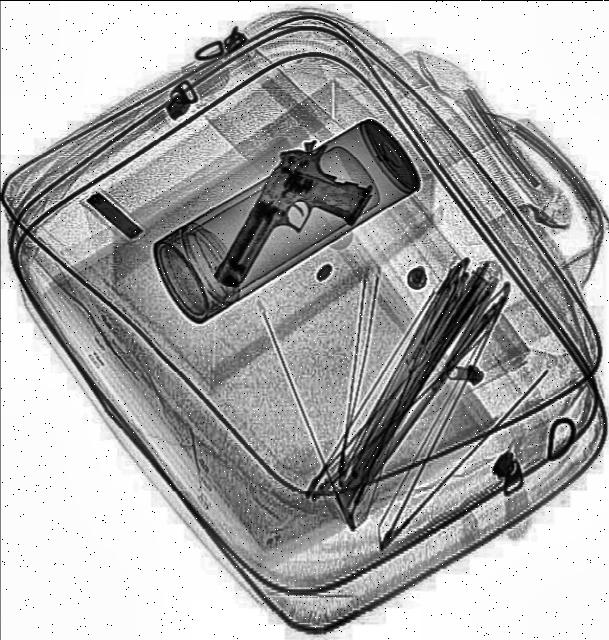Gun: (208, 129, 380, 323)
